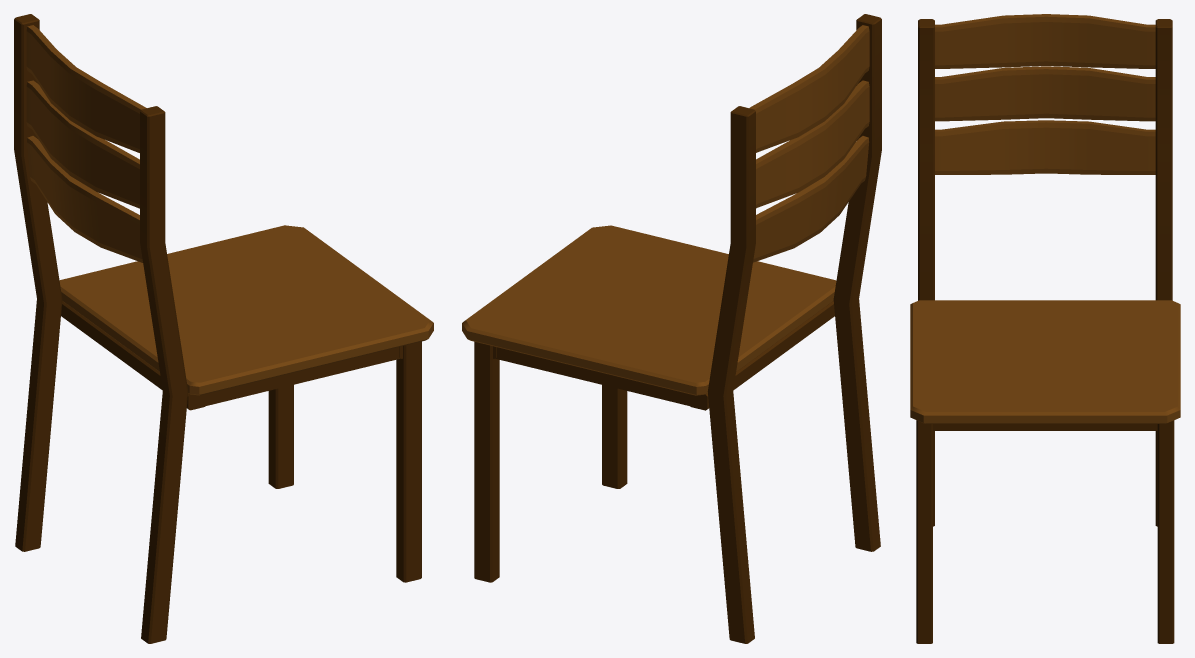
Rendered from M_Sem04_Prop_WoodenChair_SBoewing.fbx.
The picture shows the model from 3 angles, left to right: view 1: azimuth 30°, elevation 25°; view 2: azimuth 150°, elevation 25°; view 3: azimuth 270°, elevation 25°; orthographic projection. The views are drawn at different scales.
Parts seen in each view (by area): view 1: chair_1_backrest2; view 2: chair_1_backrest2; view 3: chair_1_backrest2.
Boxes of the visible parts, x1,y1,x2,y2 form: chair_1_backrest2: (14,14,433,643); chair_1_backrest2: (462,14,881,643); chair_1_backrest2: (910,14,1180,643).
Size of the model in its own units: 54.38 by 91.81 by 45.
